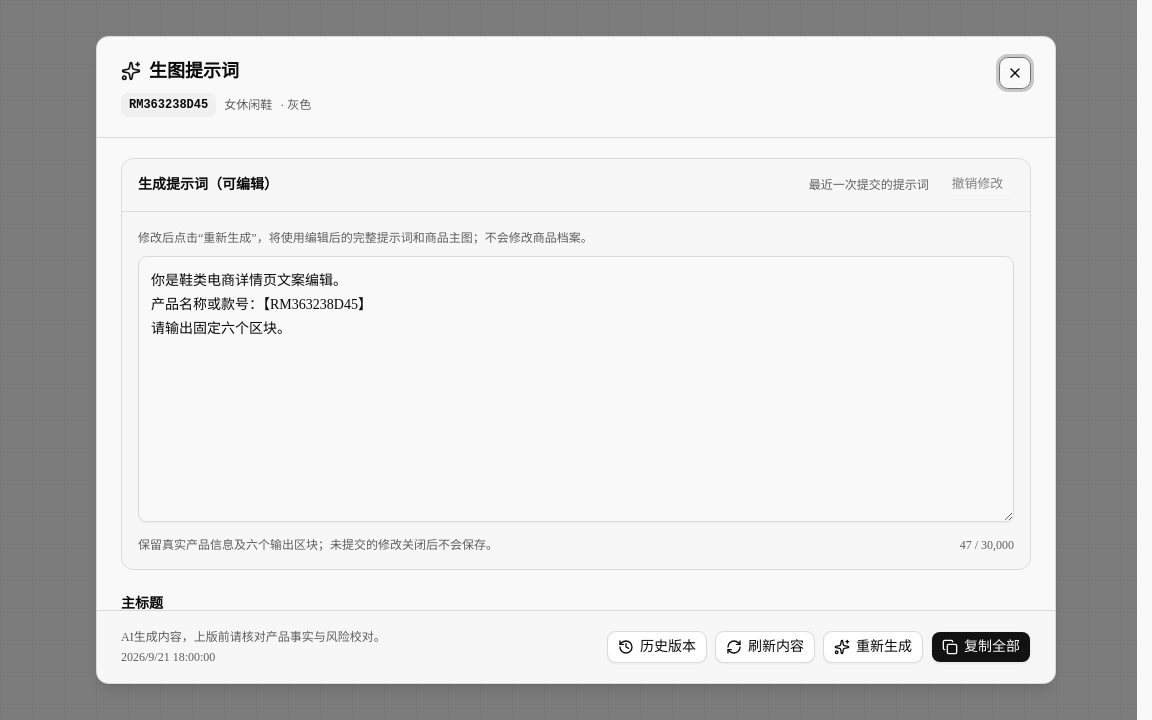
does not submit a second regeneration while the first request is pending
The width and height of the screenshot is (1152, 720).
Expected: the heading "主标题" is shown, [121, 596, 163, 610]
Step 1. Click the button "重新生成" → (873, 647), box [823, 631, 923, 663]
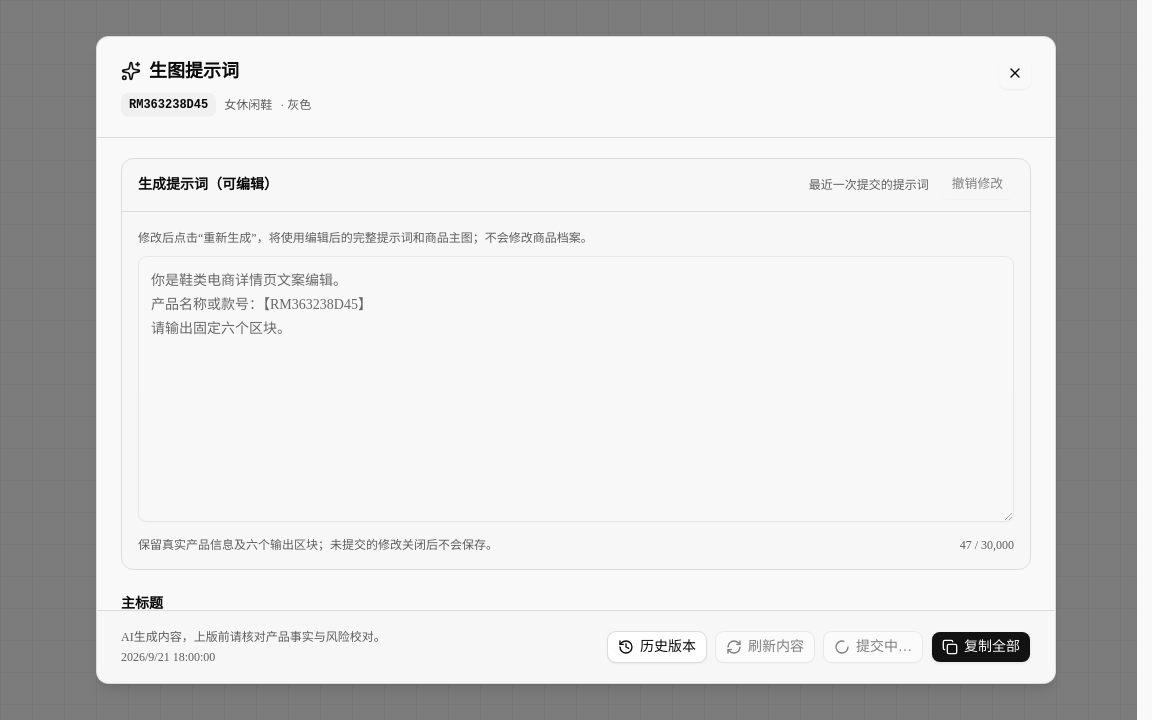
Expected: the button named "重新生成" is disabled
Step 2. Click the button named "重新生成" → (873, 647), box [823, 631, 923, 663]
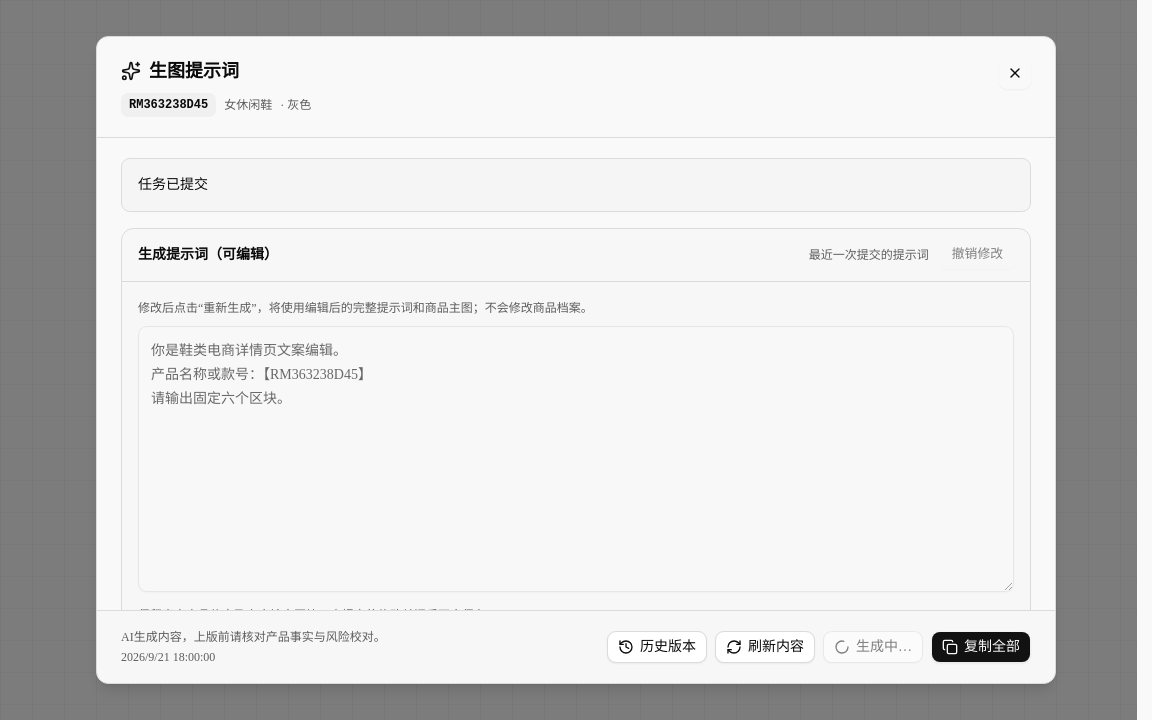
Expected: the text "任务已提交" is shown, [121, 158, 1031, 212]
